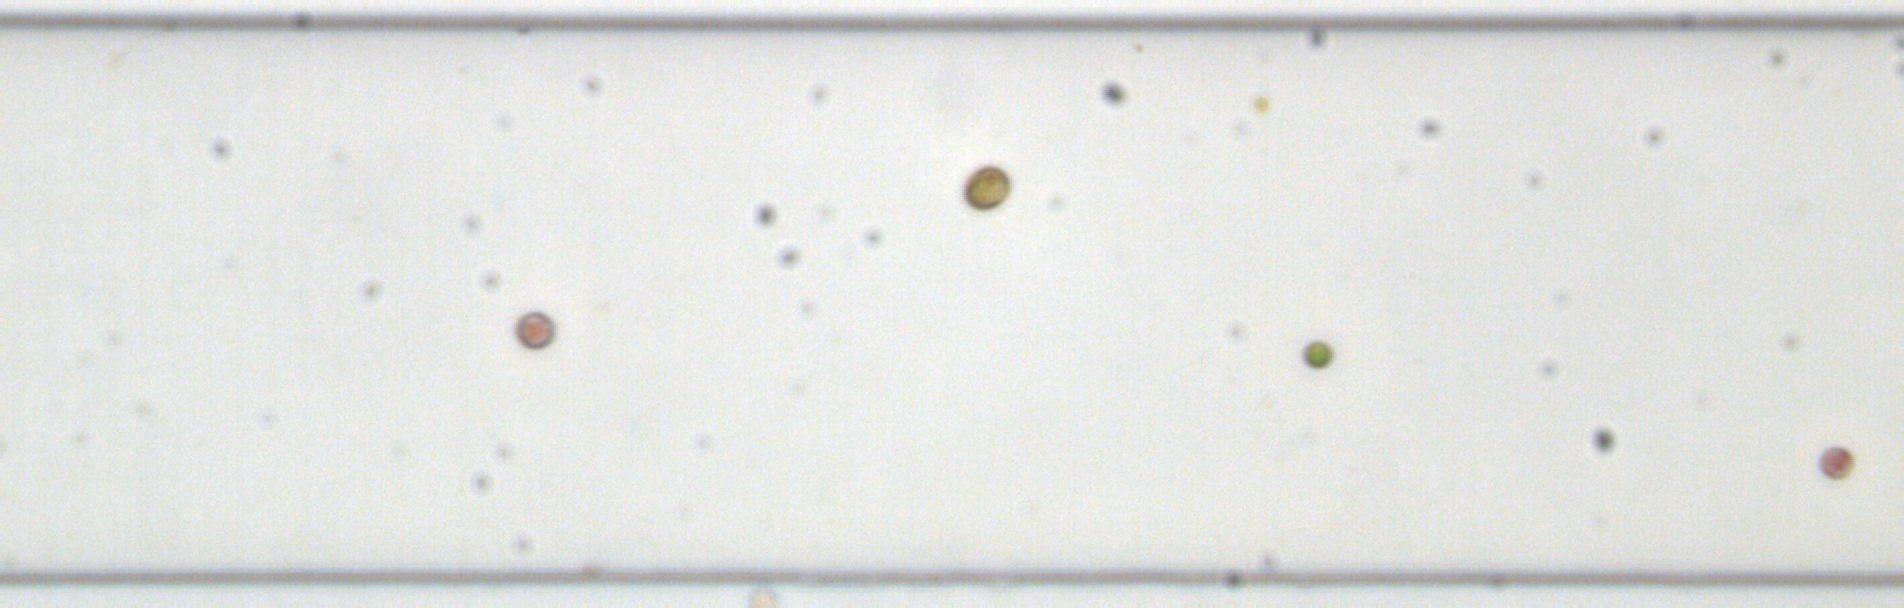Chlorella: (1299, 337, 1336, 369), (1249, 93, 1273, 113)
Effrenium: (959, 163, 1011, 214)
Porphyridium: (511, 307, 557, 352), (1815, 442, 1857, 481)
